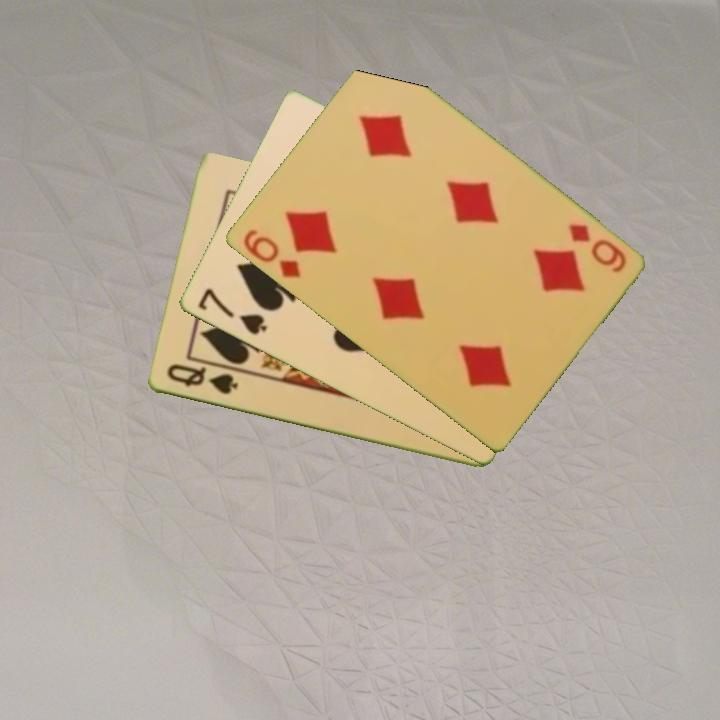6d: (239, 225, 303, 282), (564, 220, 629, 276)
7s: (194, 285, 270, 339)
Qs: (163, 360, 241, 398)
